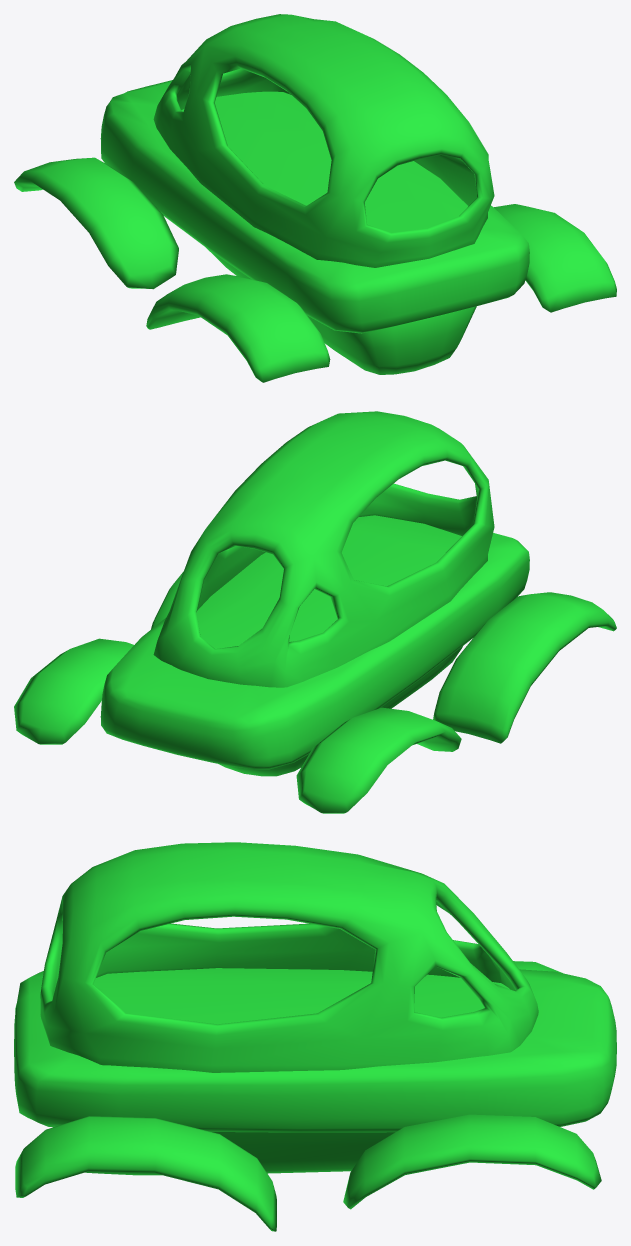
The model's file is car_frame.fbx.
3 renders of one model, top to bottom at view 1: azimuth 30°, elevation 25°; view 2: azimuth 150°, elevation 25°; view 3: azimuth 270°, elevation 25°, orthographic. The views are drawn at different scales.
Visible parts, largest first — view 1: Cube, Cube.001; view 2: Cube, Cube.001; view 3: Cube, Cube.001.
Boxes of the visible parts, x1=… form: Cube: x1=14, y1=80, x2=616, y2=382; Cube.001: x1=153, y1=14, x2=494, y2=267; Cube: x1=14, y1=515, x2=616, y2=813; Cube.001: x1=153, y1=411, x2=494, y2=687; Cube: x1=14, y1=961, x2=616, y2=1231; Cube.001: x1=40, y1=842, x2=538, y2=1072.
Bounding box in the file's own units: 163 × 113 × 208.
